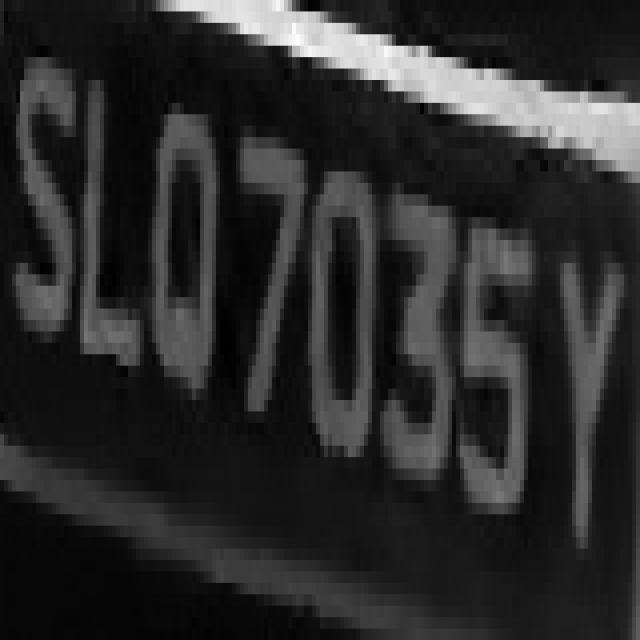0: (308, 114, 384, 503)
3: (384, 160, 460, 503)
5: (448, 183, 536, 548)
7: (216, 91, 312, 446)
L: (76, 57, 148, 423)
Q: (136, 57, 220, 412)
S: (0, 11, 80, 366)
Y: (540, 206, 624, 594)
